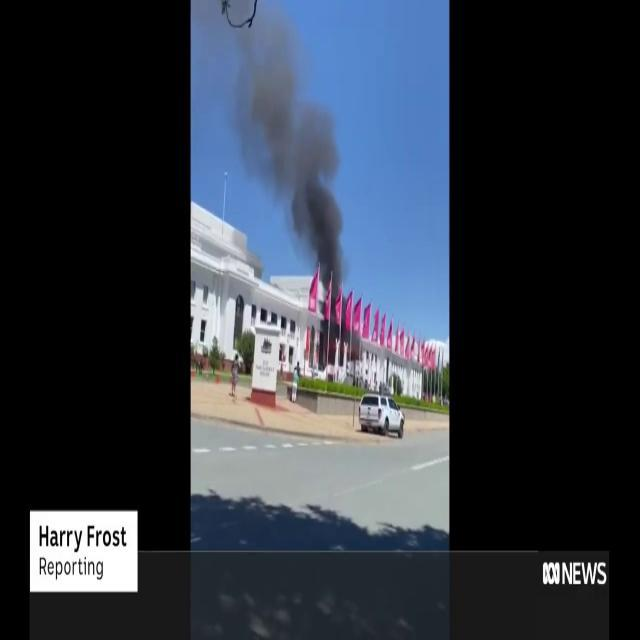Smoke: (222, 0, 346, 297)
